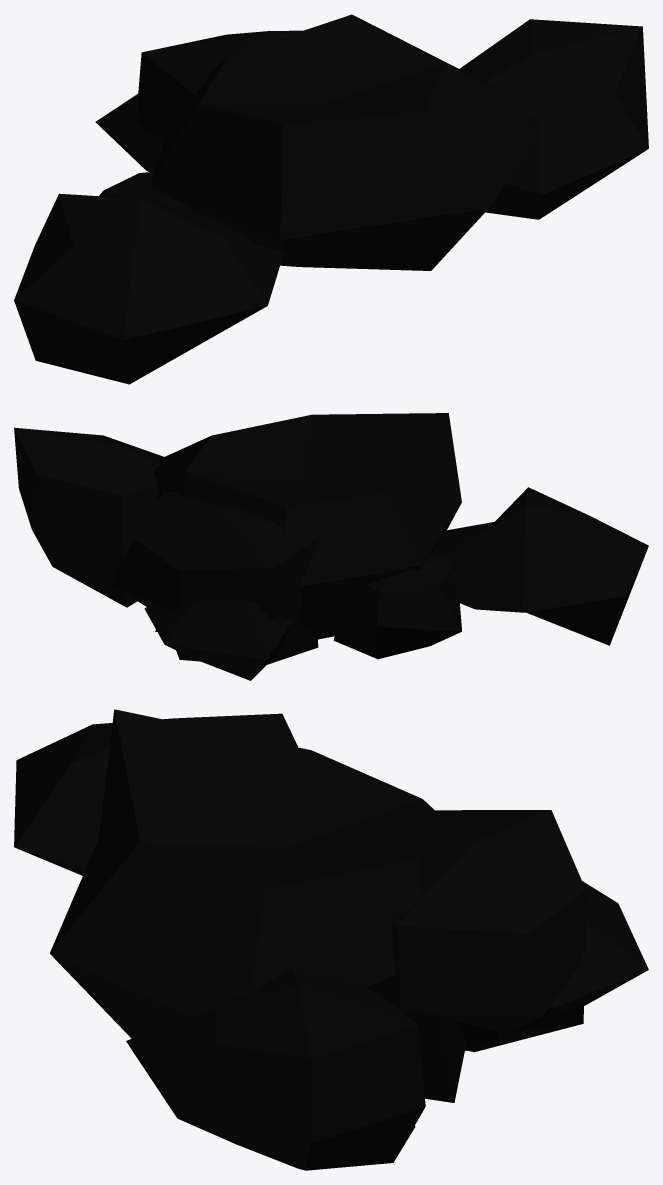
Rendered from SM_rock_pile_mossy.fbx.
3 views of the same model, one above another, from view 1: azimuth 30°, elevation 25°; view 2: azimuth 150°, elevation 25°; view 3: azimuth 270°, elevation 25° (orthographic). The views are drawn at different scales.
Parts seen in each view (by area): view 1: rock_pile_mossy; view 2: rock_pile_mossy; view 3: rock_pile_mossy.
Boxes of the visible parts, <box> form: rock_pile_mossy: <box>14,14,648,384</box>; rock_pile_mossy: <box>14,413,648,680</box>; rock_pile_mossy: <box>14,709,648,1170</box>.
Bounding box in the file's own units: 1.7 × 0.5092 × 1.11.
